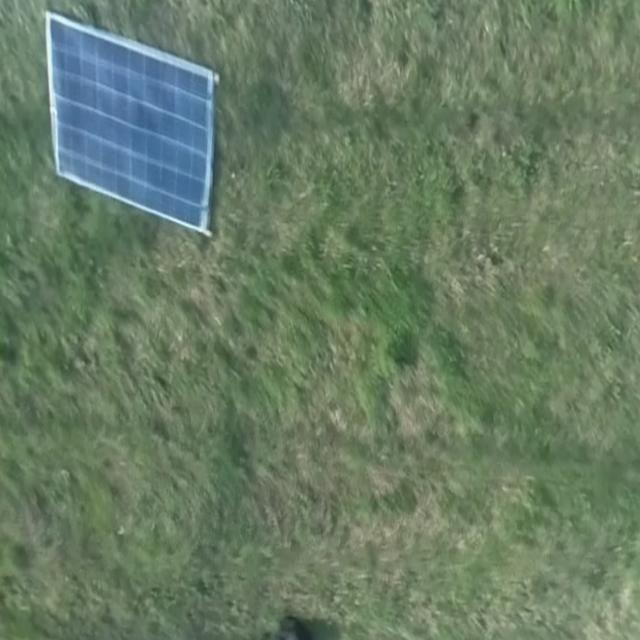no faulty: (44, 20, 216, 241)
